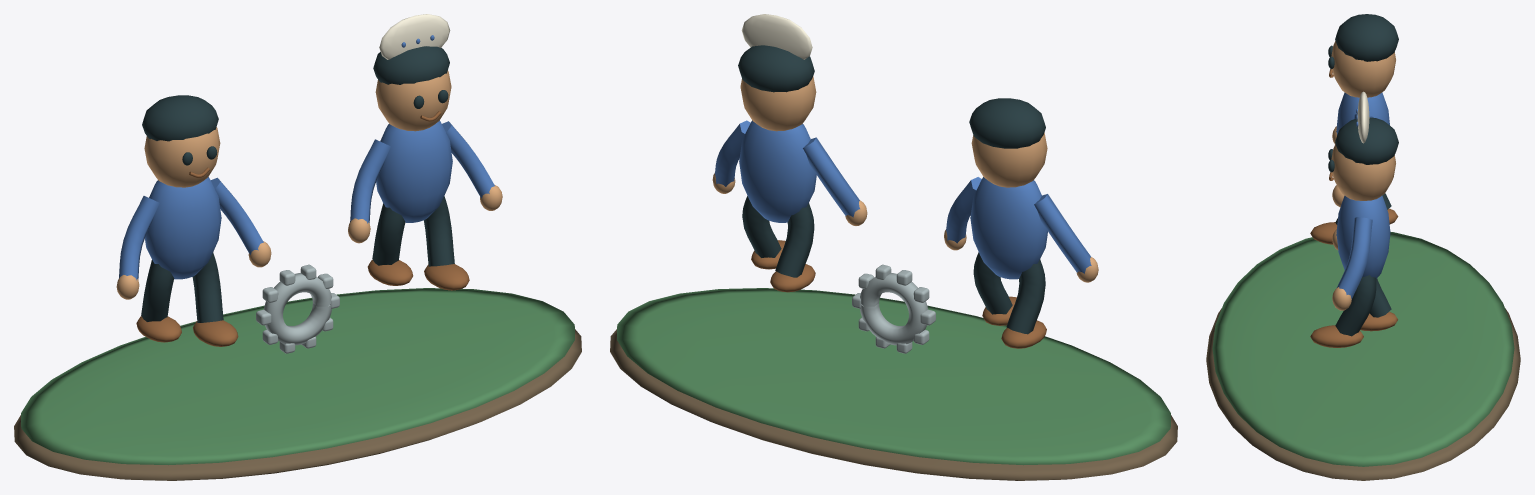
Rendered from complete-first-official-causes-action.glb.
3 renders of one model, left to right at view 1: azimuth 30°, elevation 25°; view 2: azimuth 150°, elevation 25°; view 3: azimuth 270°, elevation 25°, orthographic. The views are drawn at different scales.
Parts seen in each view (by area): view 1: complete-first-official-causes-action_surface_01, complete-first-official-causes-action_surface_05, complete-first-official-causes-action_surface_03, complete-first-official-causes-action_surface_00, complete-first-official-causes-action_surface_02, complete-first-official-causes-action_surface_07, complete-first-official-causes-action_surface_04, complete-first-official-causes-action_surface_06; view 2: complete-first-official-causes-action_surface_01, complete-first-official-causes-action_surface_05, complete-first-official-causes-action_surface_03, complete-first-official-causes-action_surface_00, complete-first-official-causes-action_surface_02, complete-first-official-causes-action_surface_07, complete-first-official-causes-action_surface_04, complete-first-official-causes-action_surface_06; view 3: complete-first-official-causes-action_surface_01, complete-first-official-causes-action_surface_03, complete-first-official-causes-action_surface_00, complete-first-official-causes-action_surface_05, complete-first-official-causes-action_surface_02, complete-first-official-causes-action_surface_04, complete-first-official-causes-action_surface_06.
Part boxes in pixels (left/top/right/bottom): complete-first-official-causes-action_surface_01: left=21, top=288, right=574, bottom=465; complete-first-official-causes-action_surface_05: left=119, top=35, right=494, bottom=280; complete-first-official-causes-action_surface_03: left=141, top=46, right=454, bottom=322; complete-first-official-causes-action_surface_00: left=14, top=329, right=581, bottom=480; complete-first-official-causes-action_surface_02: left=116, top=70, right=502, bottom=299; complete-first-official-causes-action_surface_07: left=256, top=264, right=339, bottom=353; complete-first-official-causes-action_surface_04: left=136, top=111, right=469, bottom=346; complete-first-official-causes-action_surface_06: left=379, top=14, right=450, bottom=59; complete-first-official-causes-action_surface_01: left=617, top=288, right=1170, bottom=465; complete-first-official-causes-action_surface_05: left=715, top=120, right=1091, bottom=279; complete-first-official-causes-action_surface_03: left=738, top=45, right=1045, bottom=334; complete-first-official-causes-action_surface_00: left=610, top=329, right=1177, bottom=480; complete-first-official-causes-action_surface_02: left=712, top=76, right=1098, bottom=282; complete-first-official-causes-action_surface_07: left=852, top=264, right=935, bottom=353; complete-first-official-causes-action_surface_04: left=751, top=240, right=1046, bottom=348; complete-first-official-causes-action_surface_06: left=741, top=14, right=812, bottom=59; complete-first-official-causes-action_surface_01: left=1212, top=231, right=1514, bottom=466; complete-first-official-causes-action_surface_03: left=1328, top=14, right=1398, bottom=336; complete-first-official-causes-action_surface_00: left=1206, top=308, right=1520, bottom=480; complete-first-official-causes-action_surface_05: left=1336, top=92, right=1390, bottom=299; complete-first-official-causes-action_surface_02: left=1331, top=41, right=1395, bottom=310; complete-first-official-causes-action_surface_04: left=1310, top=69, right=1398, bottom=347; complete-first-official-causes-action_surface_06: left=1357, top=91, right=1369, bottom=143.
Bounding box in the file's own units: 4.56 × 2.9 × 2.5.
